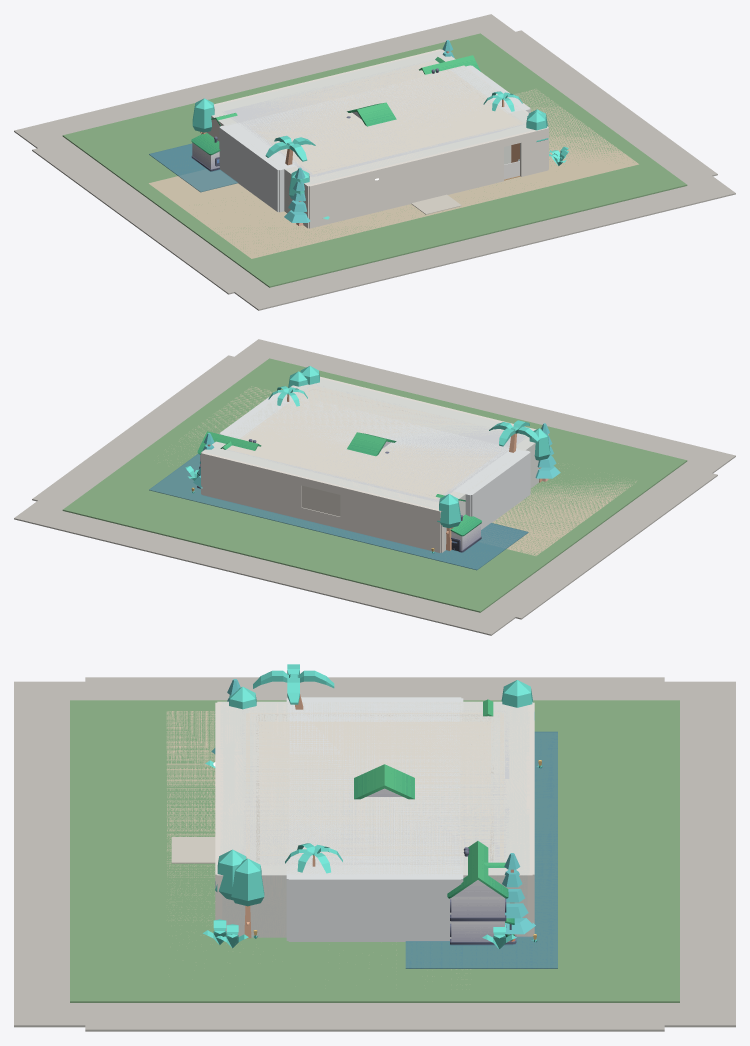
File: scenes.glb
The picture shows the model from 3 angles, top to bottom: view 1: azimuth 30°, elevation 25°; view 2: azimuth 150°, elevation 25°; view 3: azimuth 270°, elevation 25°; orthographic projection. The views are drawn at different scales.
Visible parts, largest first — view 1: Ground.002, Ground.001, Ceil, Ground.009, Ground.003, Ground.006, Wall_south.005, Ground.004, Ceil.003, Ceil.001, Ceil.002, Ground (+15 smaller); view 2: Ground.002, Ground.001, Ceil, Ground.003, Ground.006, Ground.004, Ceil.003, Ceil.001, Ground.009, Water, Wall_north_end.005, Wall_north.006 (+16 smaller); view 3: Ground.002, Ground.001, Ceil.001, Ground.004, Ground.006, Ceil.006, Ceil.003, Ceil.005, Ground, Ground.007, Wall_east.003, Water (+16 smaller).
Part boxes in pixels (x1=…): Ground.002: x1=62, y1=33, x2=687, y2=287; Ground.001: x1=15, y1=15, x2=733, y2=309; Ceil: x1=245, y1=61, x2=520, y2=174; Ground.009: x1=149, y1=89, x2=638, y2=258; Ground.003: x1=35, y1=24, x2=714, y2=299; Ground.006: x1=14, y1=14, x2=735, y2=310; Wall_south.005: x1=308, y1=138, x2=503, y2=228; Ground.004: x1=32, y1=30, x2=717, y2=294; Ceil.003: x1=221, y1=66, x2=528, y2=169; Ceil.001: x1=213, y1=51, x2=531, y2=183; Ceil.002: x1=224, y1=63, x2=523, y2=176; Ground: x1=39, y1=25, x2=612, y2=298; Ground.002: x1=62, y1=358, x2=687, y2=612; Ground.001: x1=16, y1=340, x2=734, y2=634; Ceil: x1=229, y1=386, x2=502, y2=499; Ground.003: x1=35, y1=350, x2=714, y2=624; Ground.006: x1=14, y1=339, x2=735, y2=635; Ground.004: x1=32, y1=355, x2=717, y2=619; Ceil.003: x1=221, y1=392, x2=528, y2=494; Ceil.001: x1=205, y1=379, x2=533, y2=507; Ground.009: x1=165, y1=386, x2=636, y2=555; Water: x1=149, y1=453, x2=528, y2=570; Wall_north_end.005: x1=201, y1=452, x2=302, y2=519; Wall_north.006: x1=340, y1=486, x2=440, y2=552; Ground.002: x1=70, y1=700, x2=679, y2=1002; Ground.001: x1=19, y1=681, x2=730, y2=1027; Ceil.001: x1=223, y1=703, x2=526, y2=873; Ground.004: x1=85, y1=677, x2=664, y2=1031; Ground.006: x1=14, y1=681, x2=735, y2=1027; Ceil.006: x1=259, y1=722, x2=490, y2=854; Ceil.003: x1=289, y1=698, x2=460, y2=878; Ceil.005: x1=218, y1=703, x2=531, y2=873; Ground: x1=44, y1=692, x2=705, y2=1014; Ground.007: x1=54, y1=701, x2=695, y2=1005; Wall_east.003: x1=288, y1=878, x2=461, y2=941; Water: x1=405, y1=731, x2=557, y2=968.
Size of the model in its own units: 32.8 by 4.4 by 28.4.
136 materials, 3 textured.
